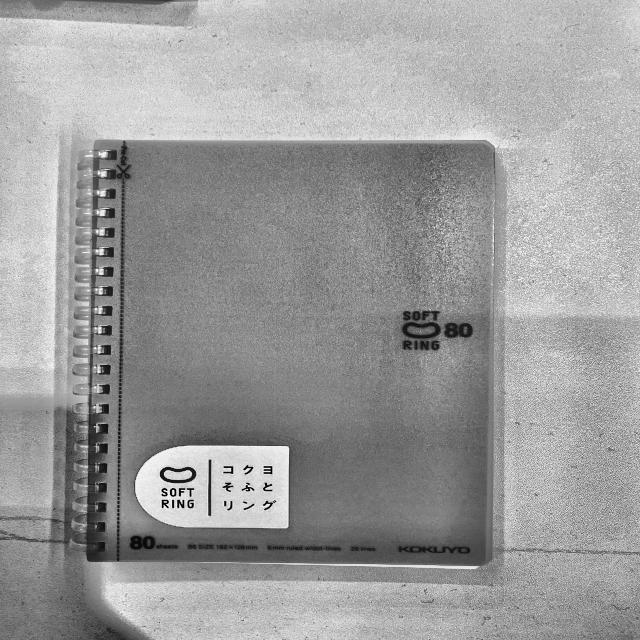Notebook: (42, 122, 525, 580)
